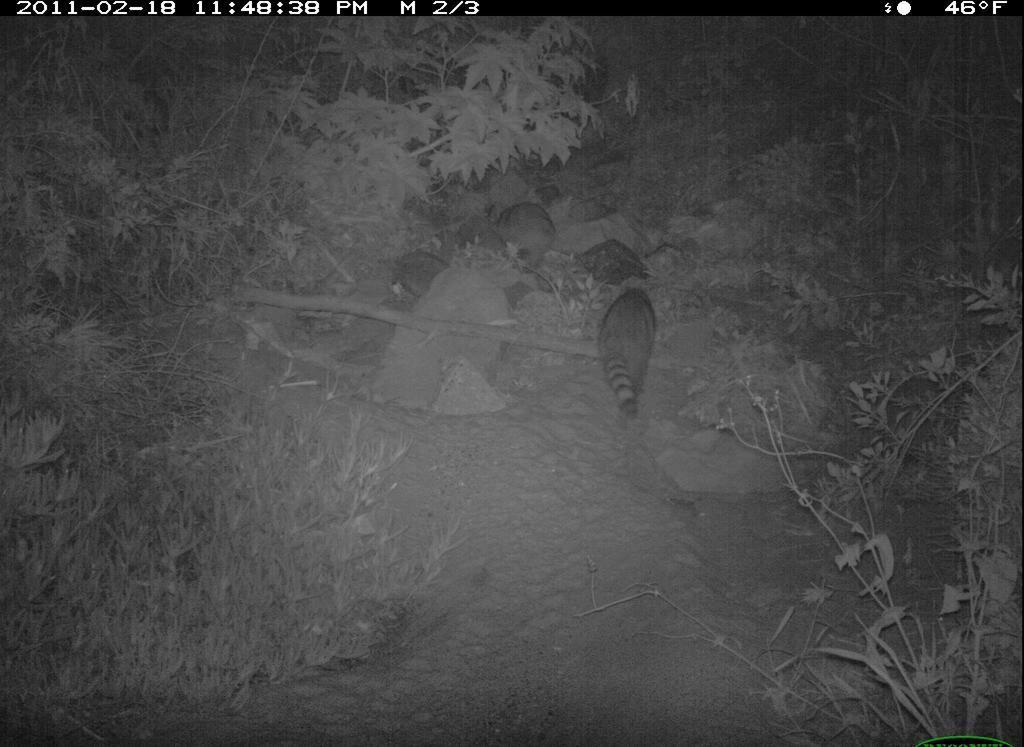raccoon: (593, 276, 664, 420)
